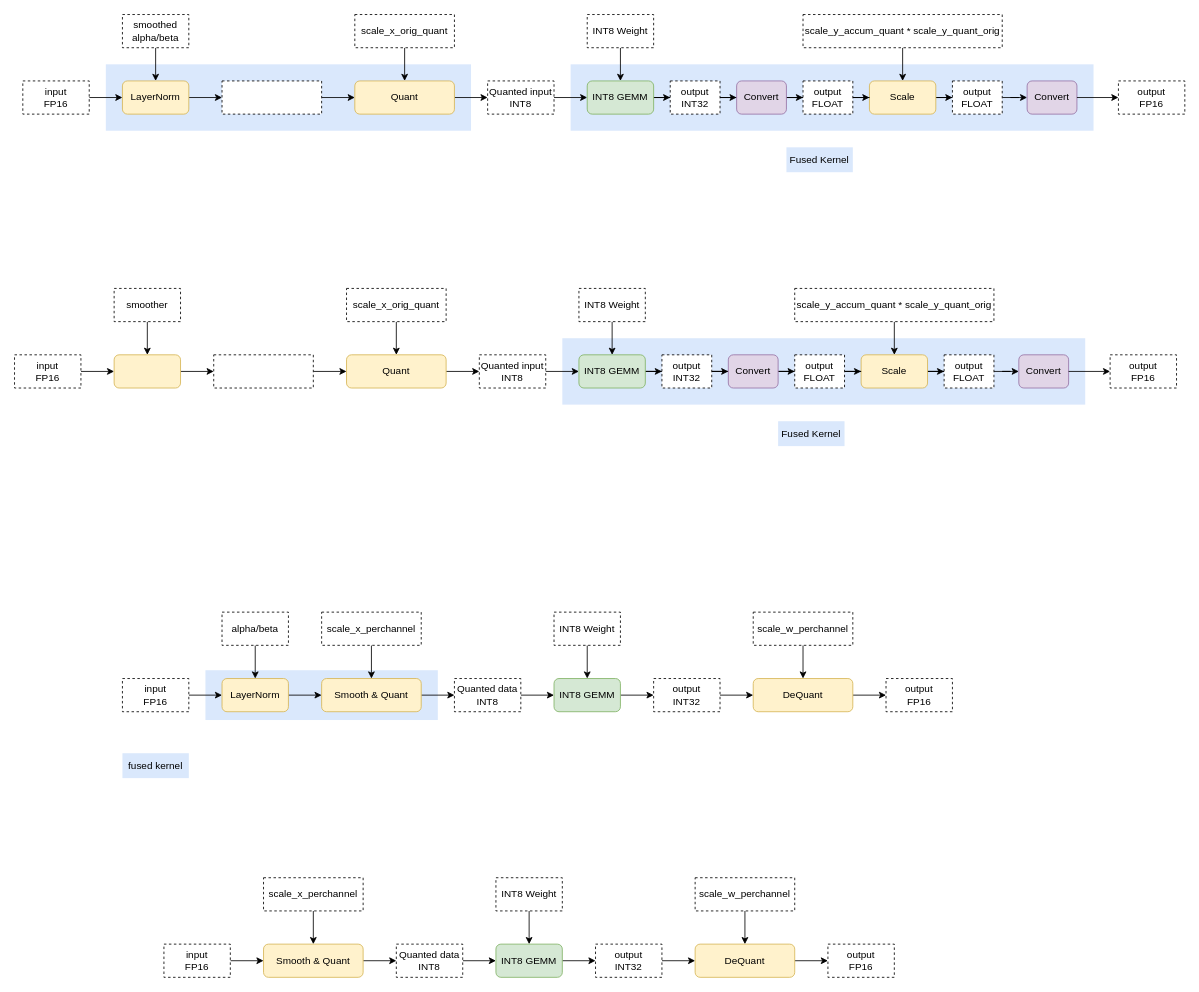
This 1199x992 diagram has some shape labels left out. The box of each missing label's shape, as (x1, y1, x2, y2) in pixels:
Smooth: (113, 354, 181, 388)
Smoothed data FP16: (221, 80, 322, 114)
Smoothed input FP16: (213, 354, 313, 388)
